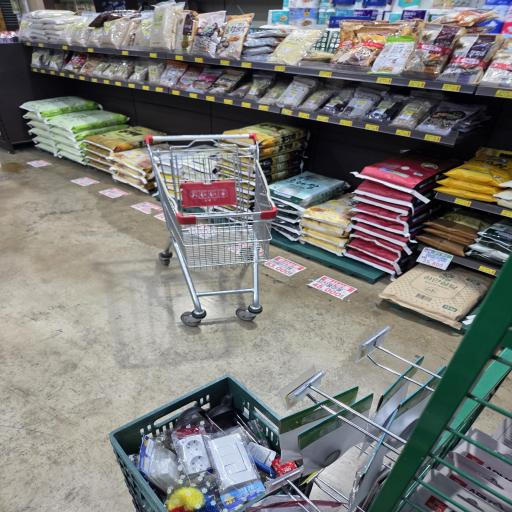empty_cart: (147, 131, 278, 321)
